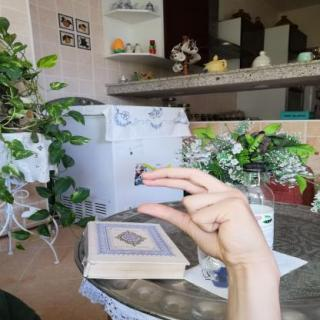DHELL: (129, 163, 278, 269)
